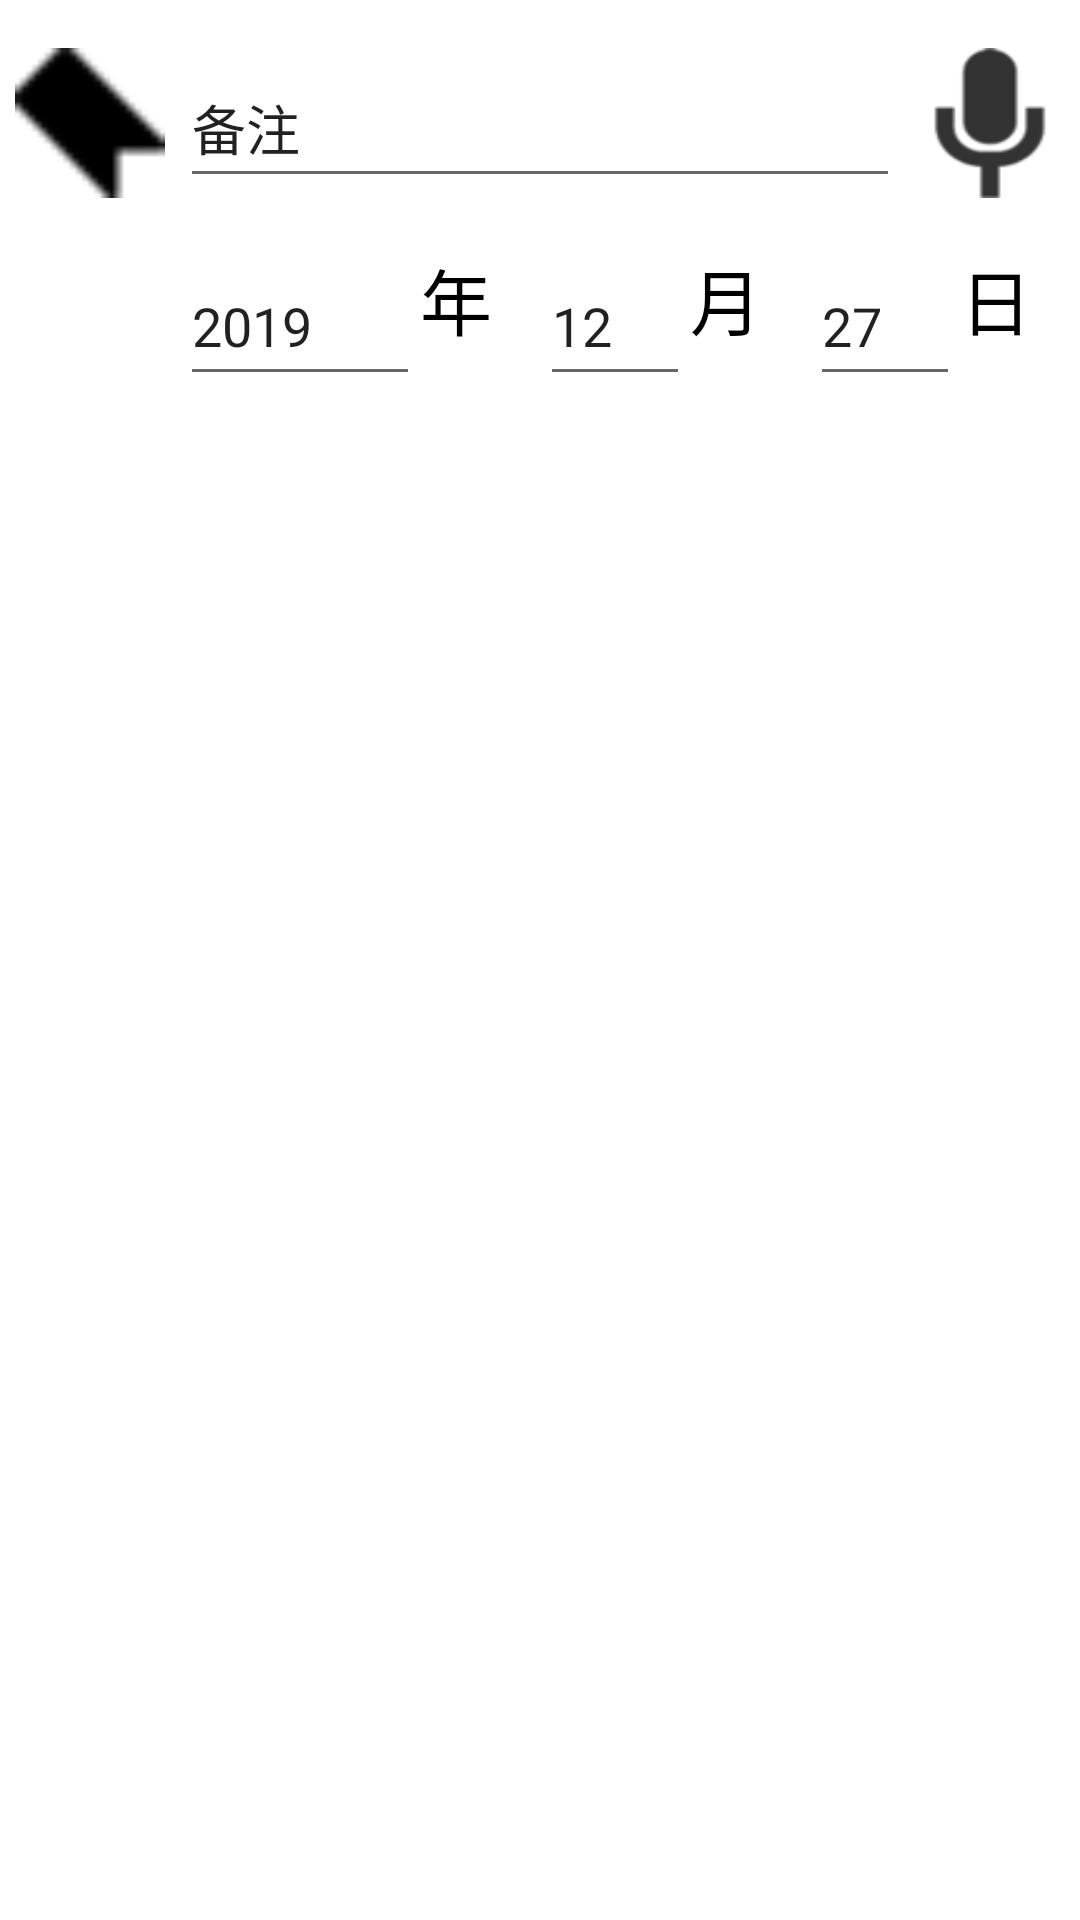

Icon bounding boxes for this 1080 x 1920 phone screenshot, format [left=x1, top=y1, right=x2, bottom=y2]:
describe: [left=15, top=48, right=165, bottom=198]
voice: [left=934, top=48, right=1046, bottom=198]
